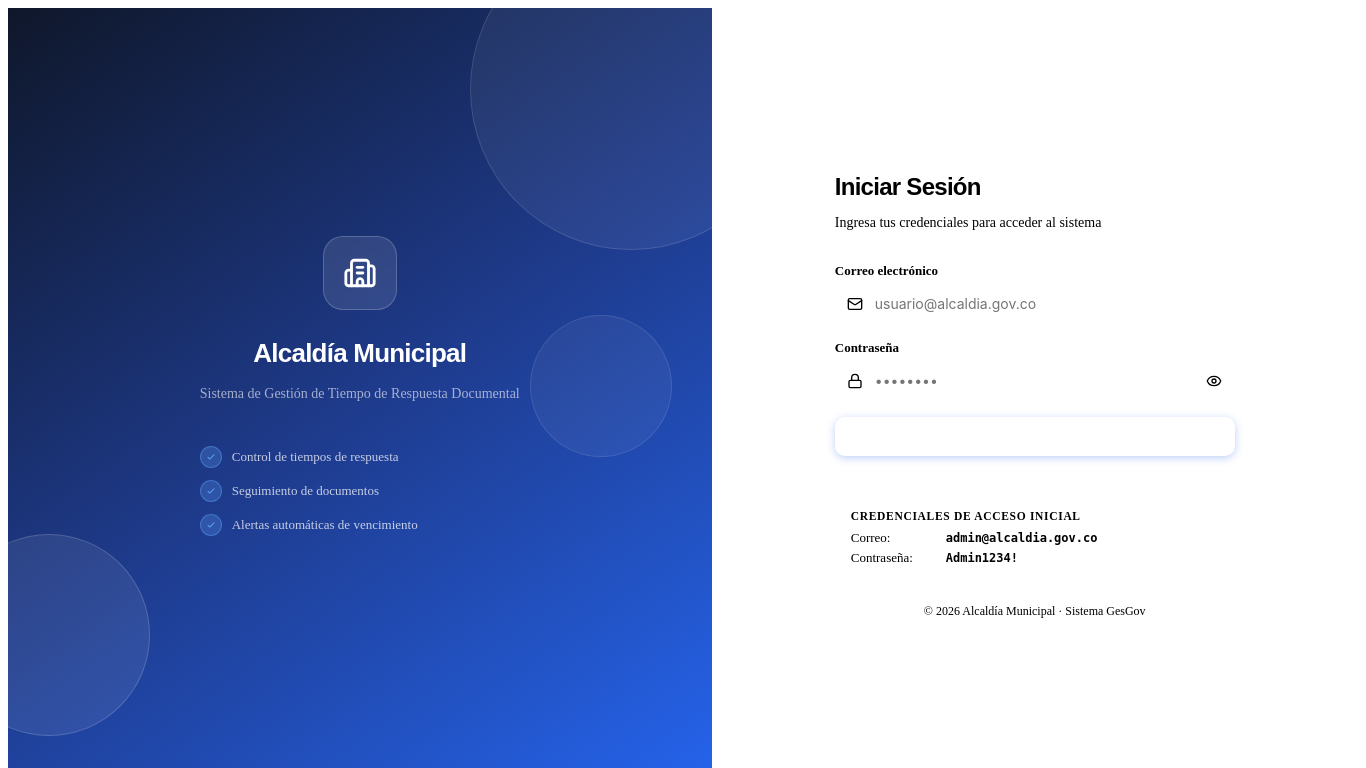
Test: LoginPage › form validation › should show error when email format is invalid
Step 1. Type "invalid-email" into the field with placeholder "usuario@alcaldia.gov.co" → (1061, 304), box [835,285,1288,322]
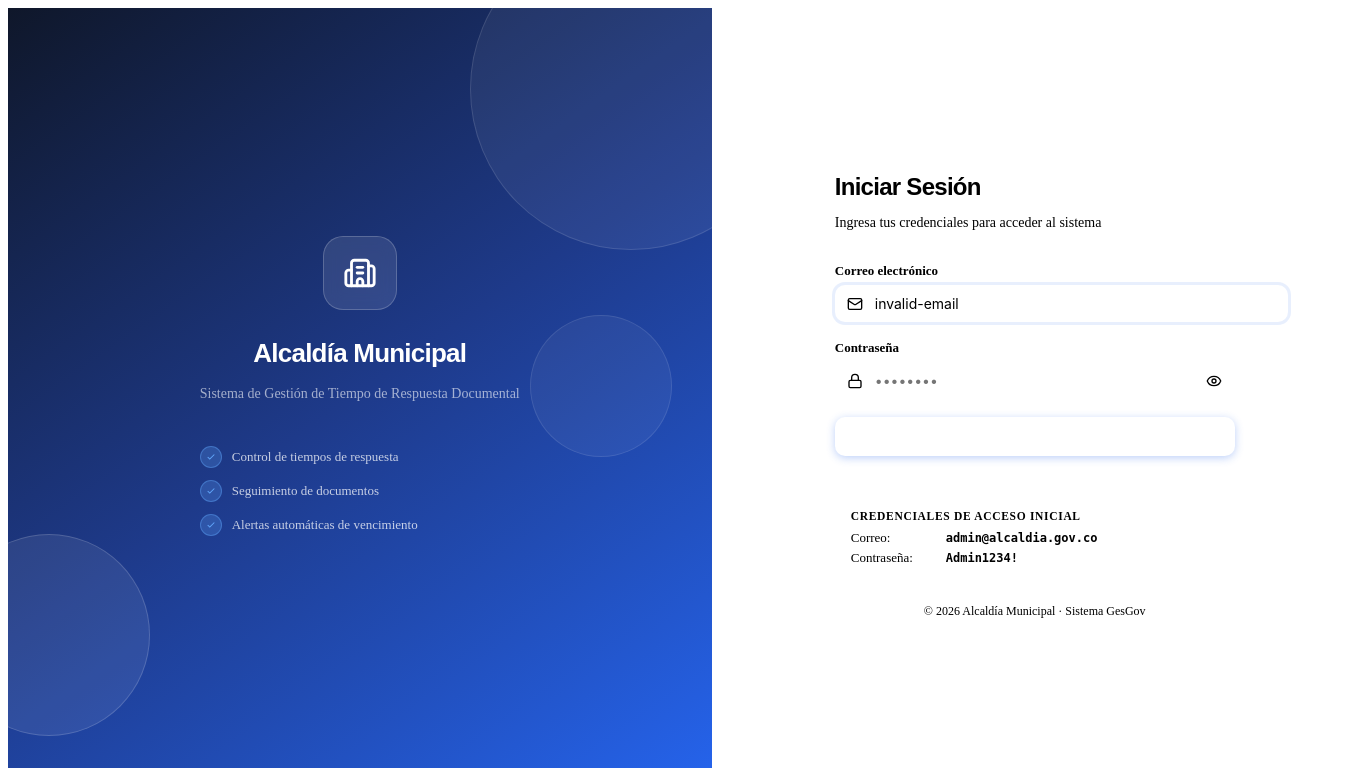
Step 2. Click the button "Ingresar al Sistema" → click(1035, 437), box [835,417,1235,456]
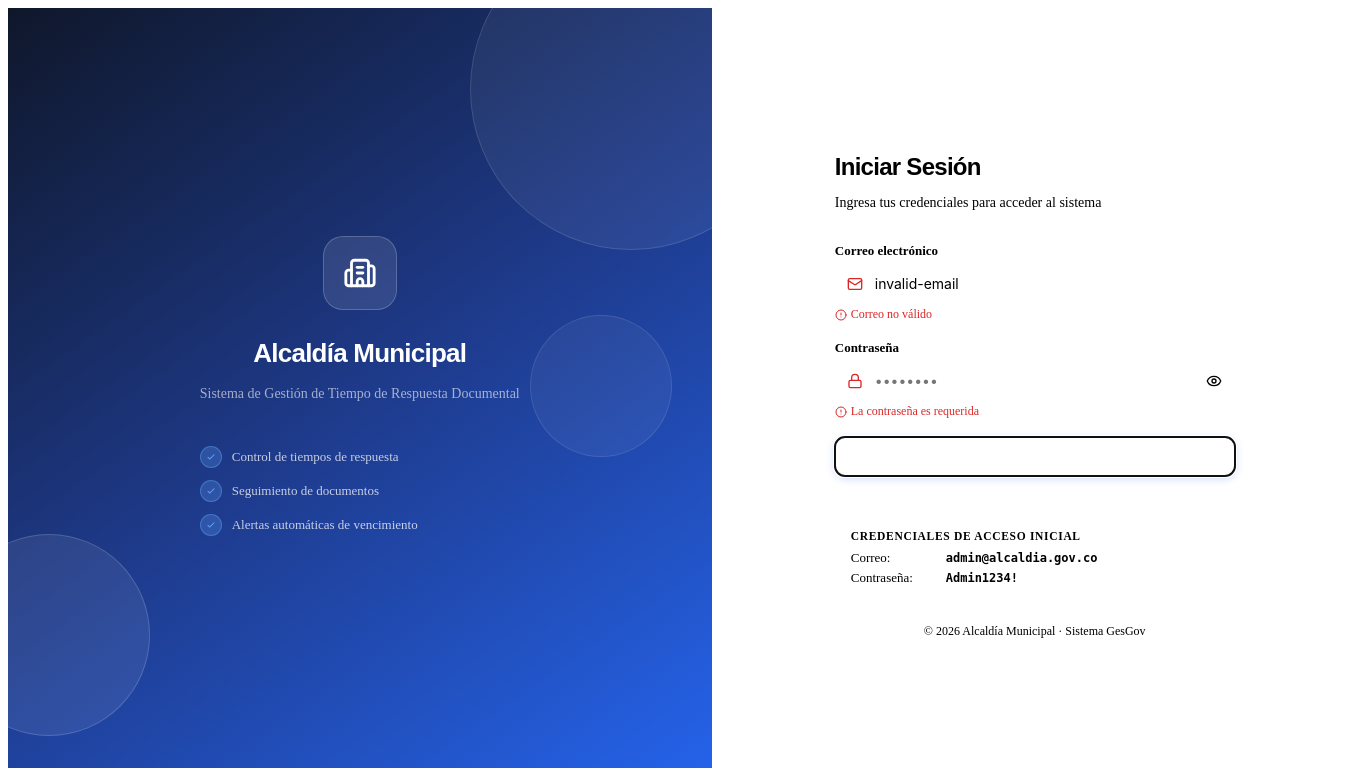
Now the text "Correo no válido" is shown, box [835,307,932,321]
